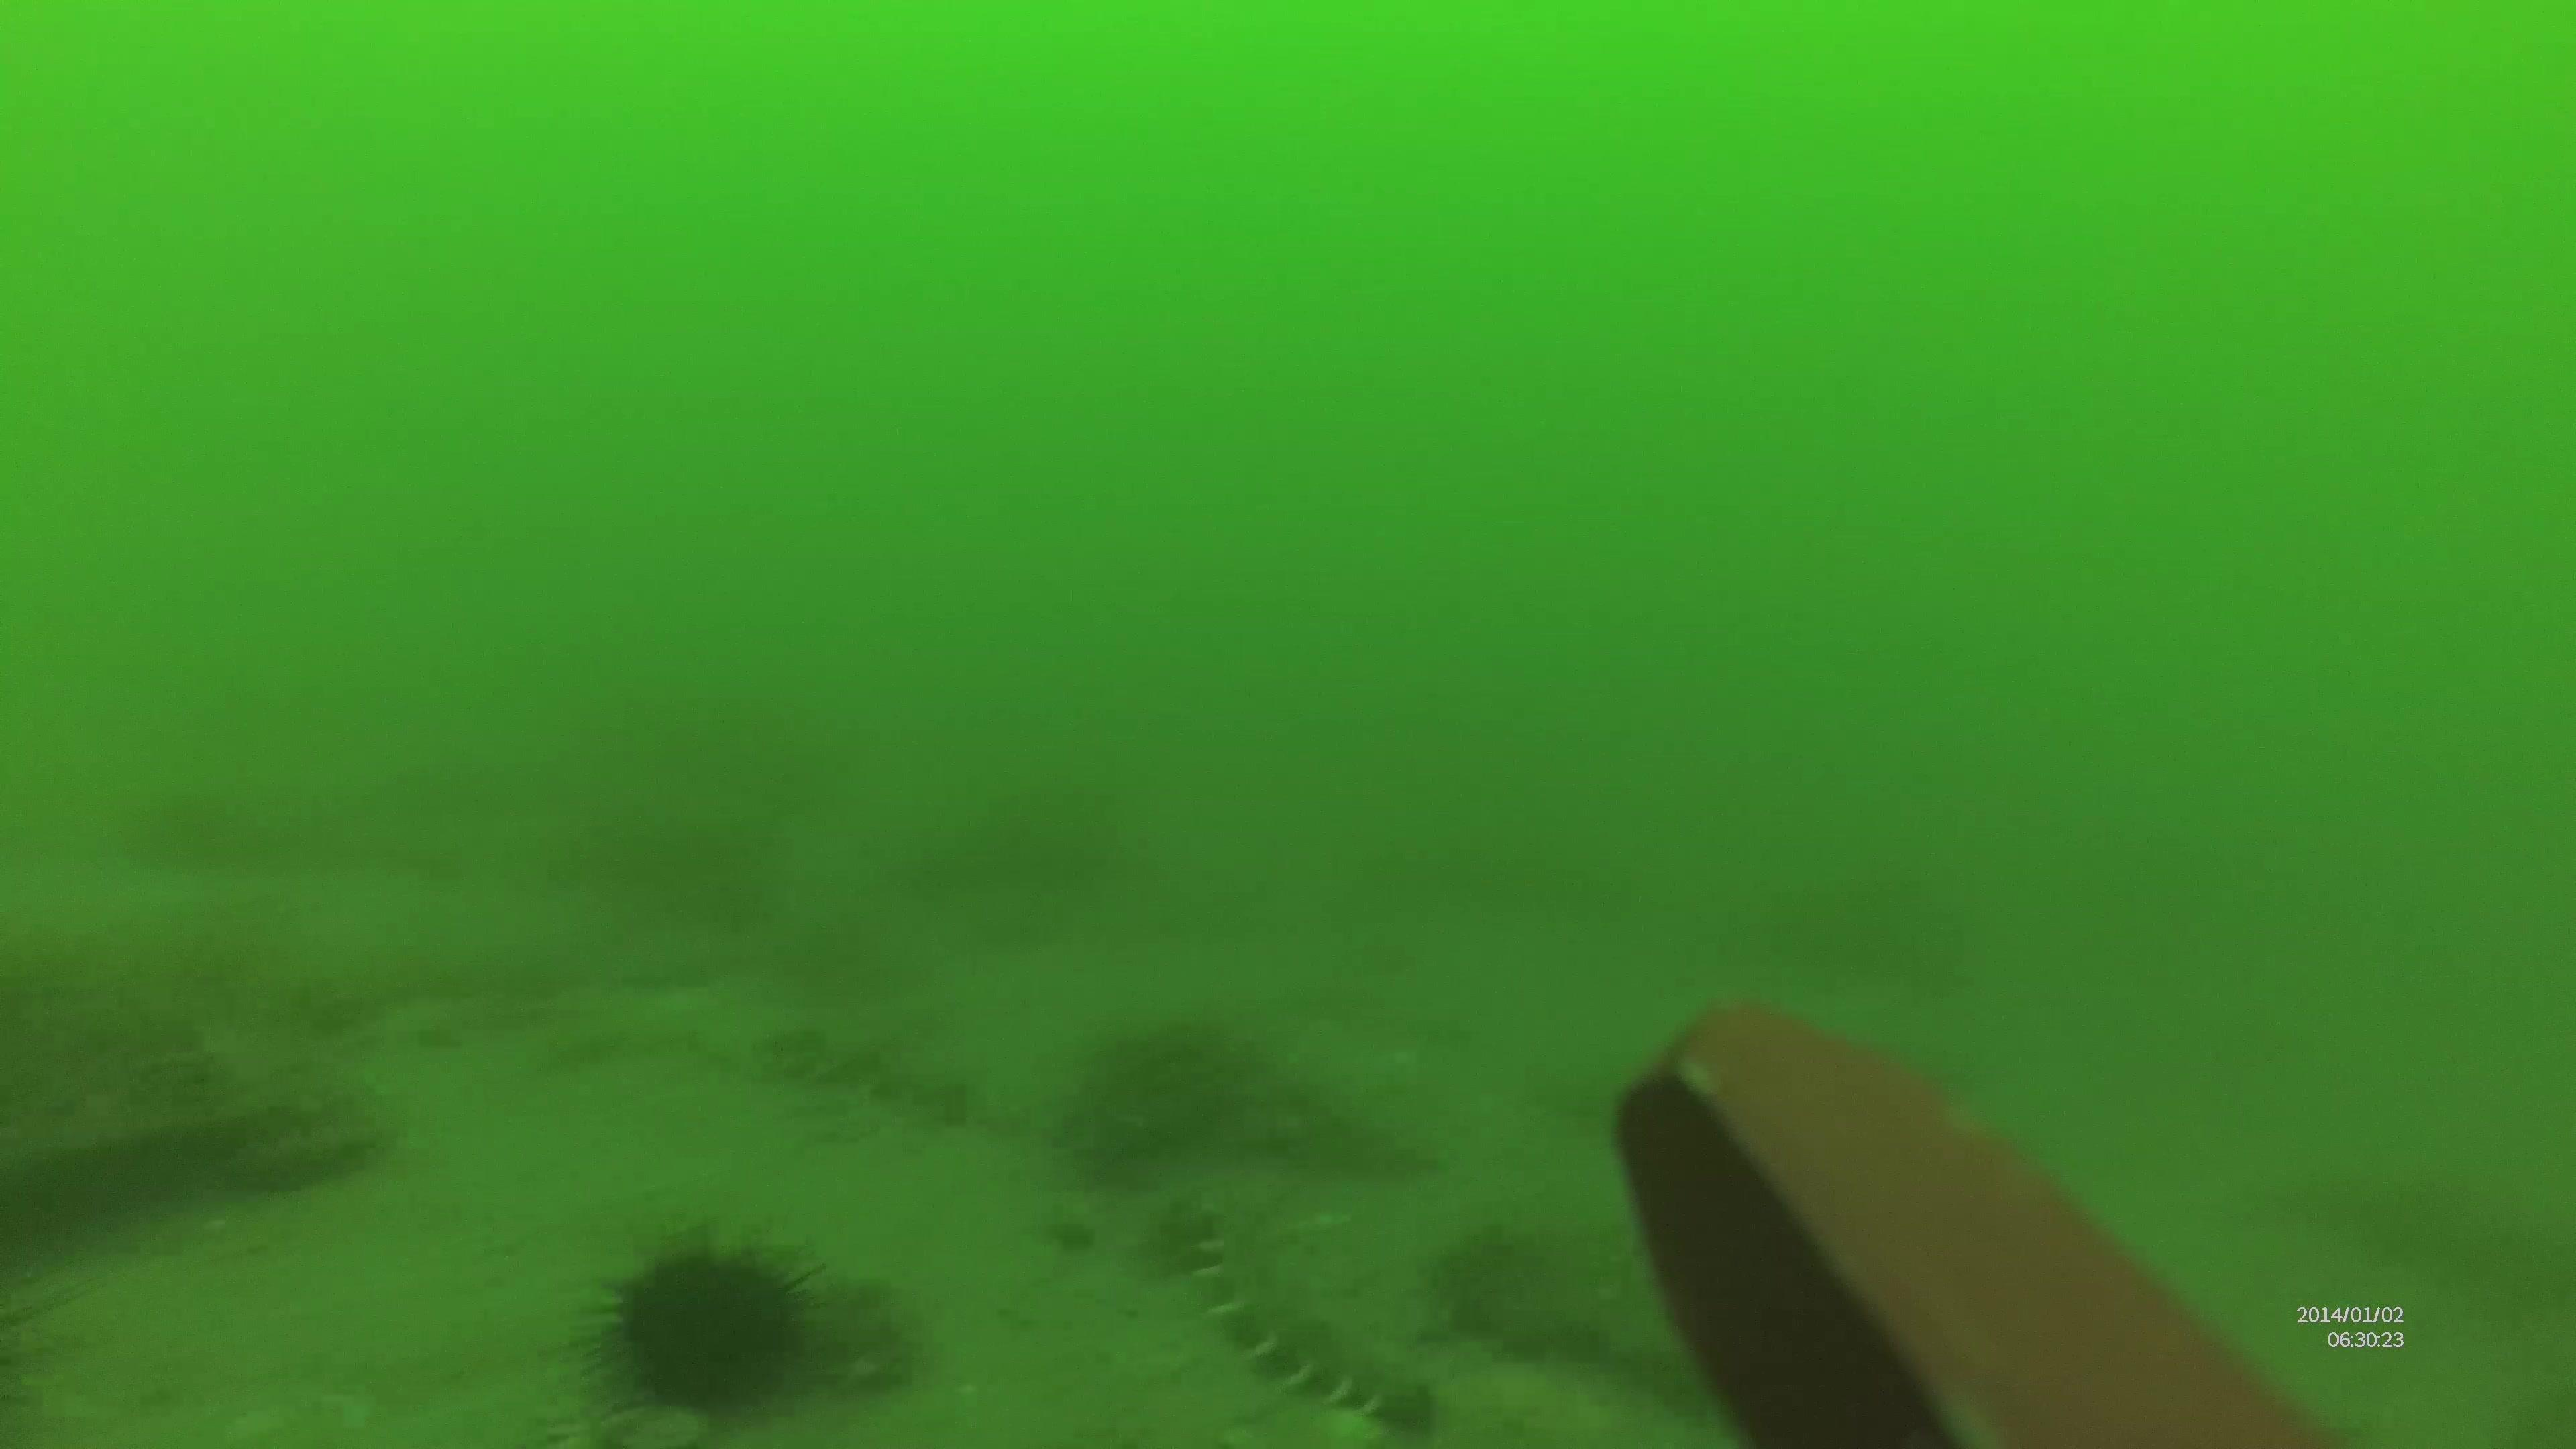echinus: (579, 1242, 830, 1422)
holothurian: (1192, 1200, 1442, 1437)
